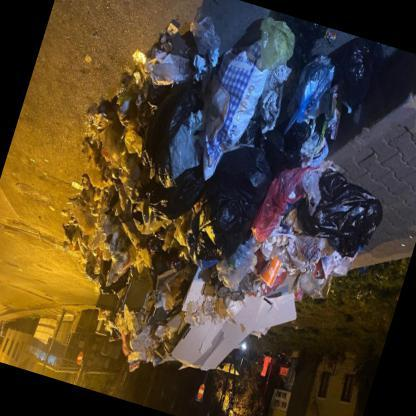Garbage: (167, 0, 330, 262), (226, 158, 390, 326), (141, 214, 281, 390), (74, 109, 188, 270), (112, 315, 158, 356)
